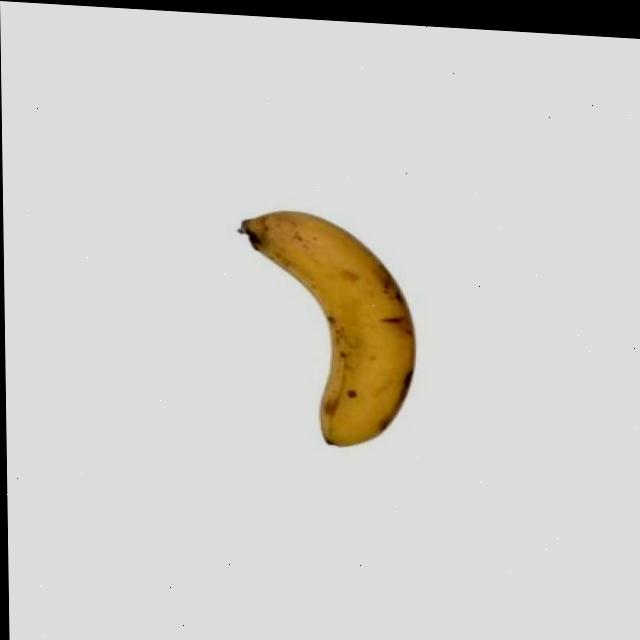banana: (231, 201, 424, 456)
